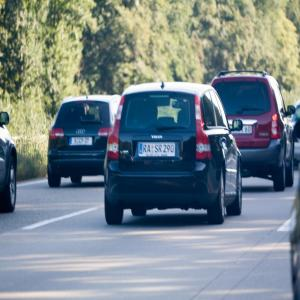Vehicle-registration-plate: (138, 143, 176, 158), (70, 138, 94, 147), (231, 126, 253, 134)
